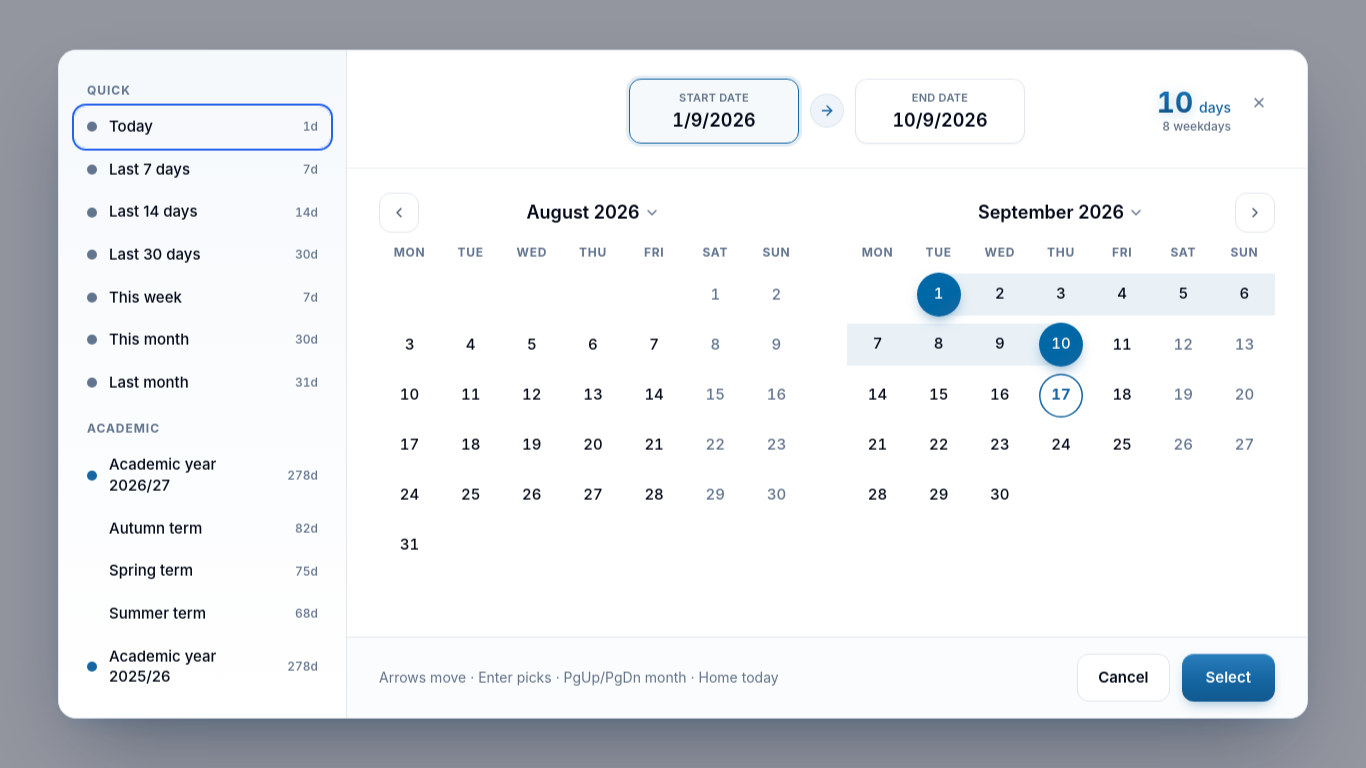
Test: StudioRangeDialog edge cases › 3 only start picked blocks Apply
Click the 1st cell "12". click: click(1183, 344)
box: [1153, 320, 1214, 368]
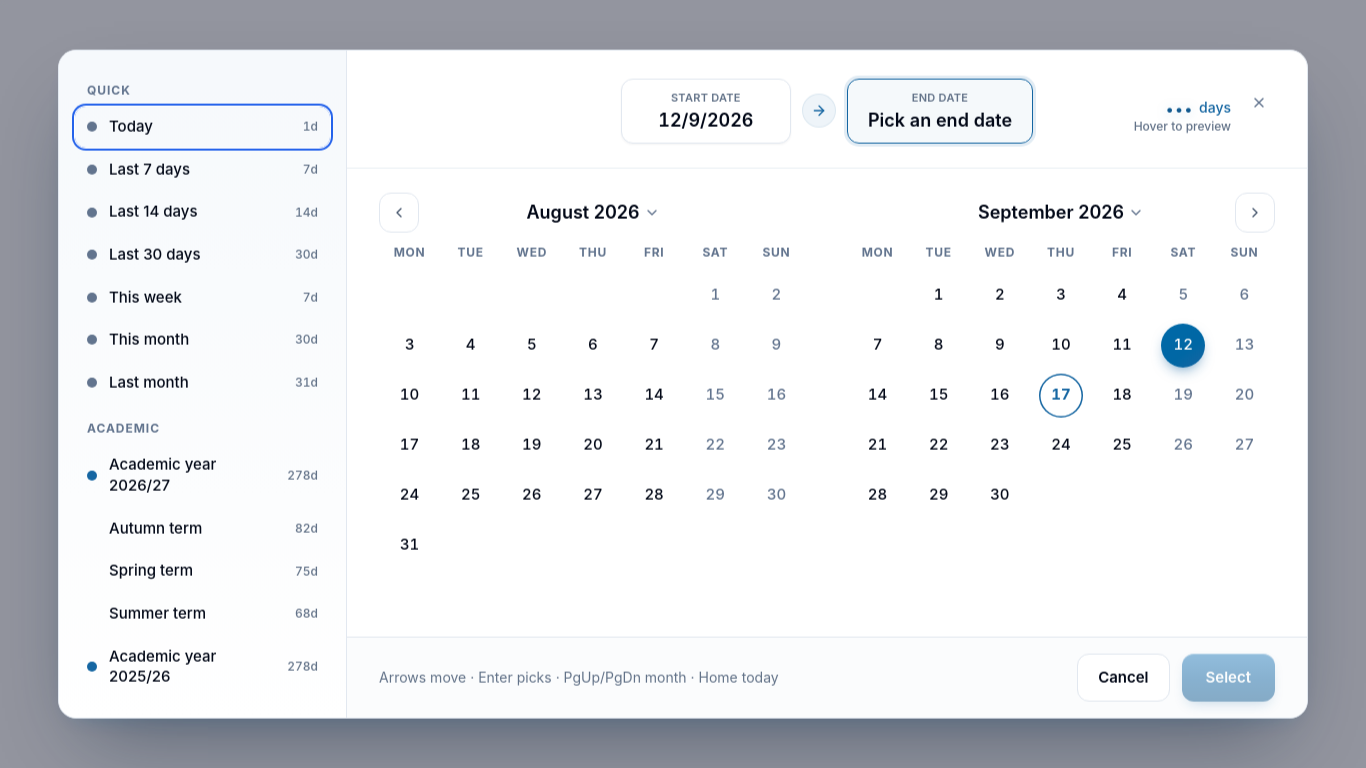
expect the button "Select" is disabled: met, box [1182, 653, 1275, 701]
expect the text "Pick an end date" is shown: met, box [868, 108, 1012, 132]
